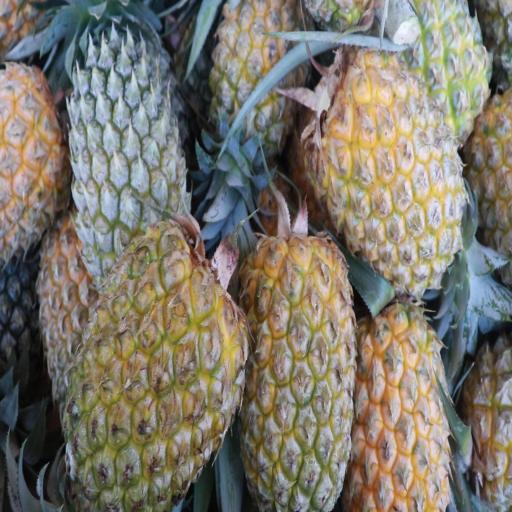------------------------------: (208, 0, 302, 149), (38, 212, 109, 394)
Pineapple - v8 v1: (68, 217, 239, 512), (242, 242, 357, 510), (330, 59, 462, 274), (356, 294, 447, 508), (0, 59, 70, 238)
